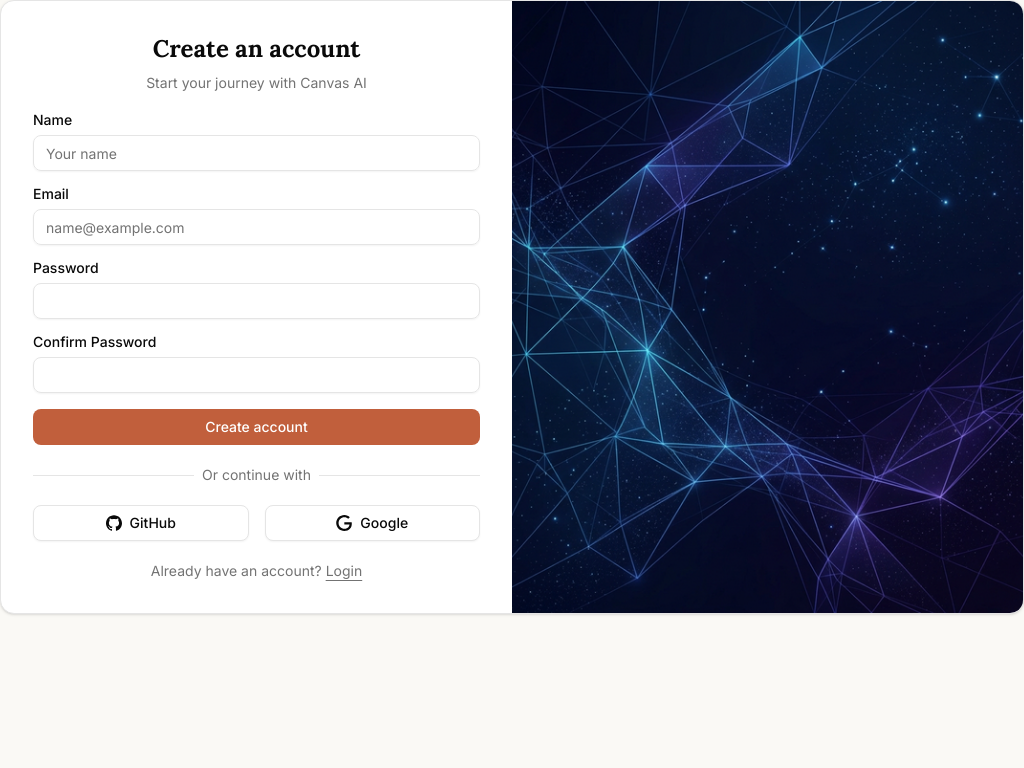
Scenario: SignupForm › shows error when social login fails
The image size is (1024, 768).
Click the button with aria-label "sign up with google" at (372, 523), box x1=264 y1=505 x2=480 y2=541
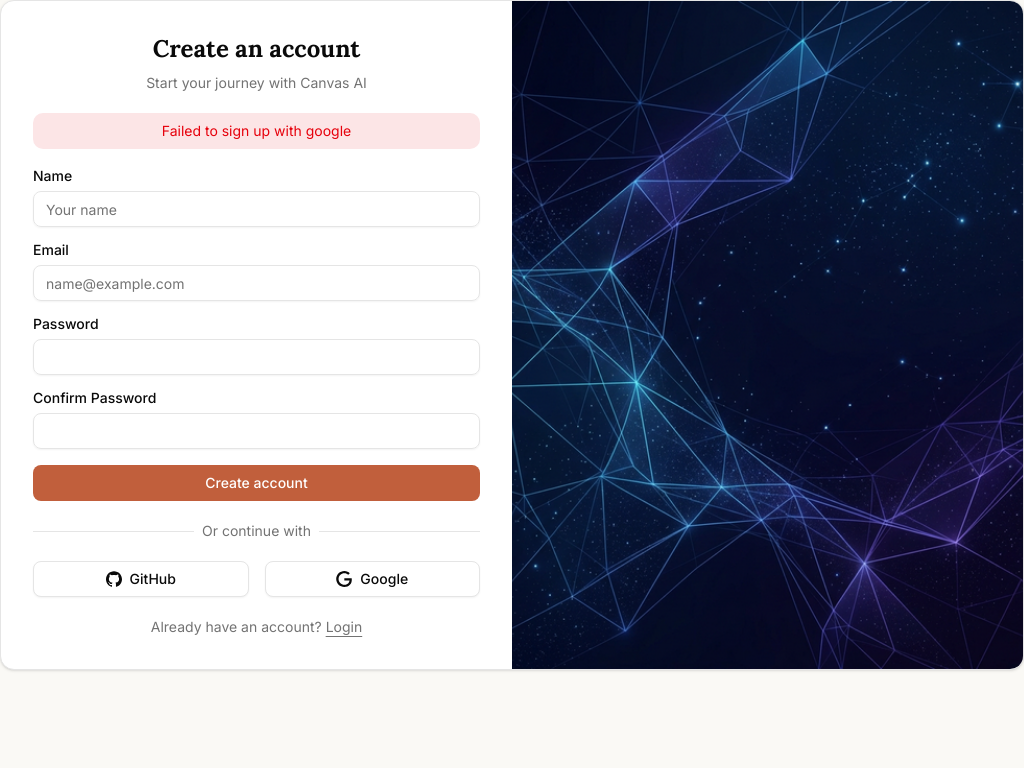
Expected: the text "Failed to sign up with google" is shown, x1=33 y1=113 x2=480 y2=149
